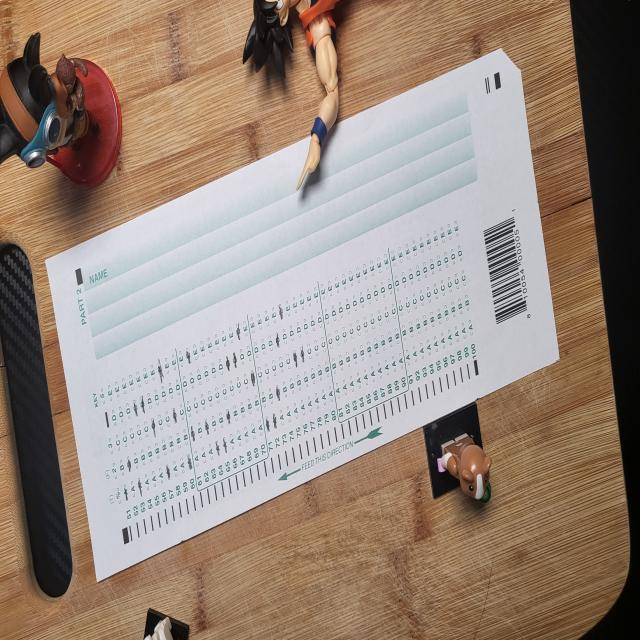scantron_back: (45, 48, 560, 583)
